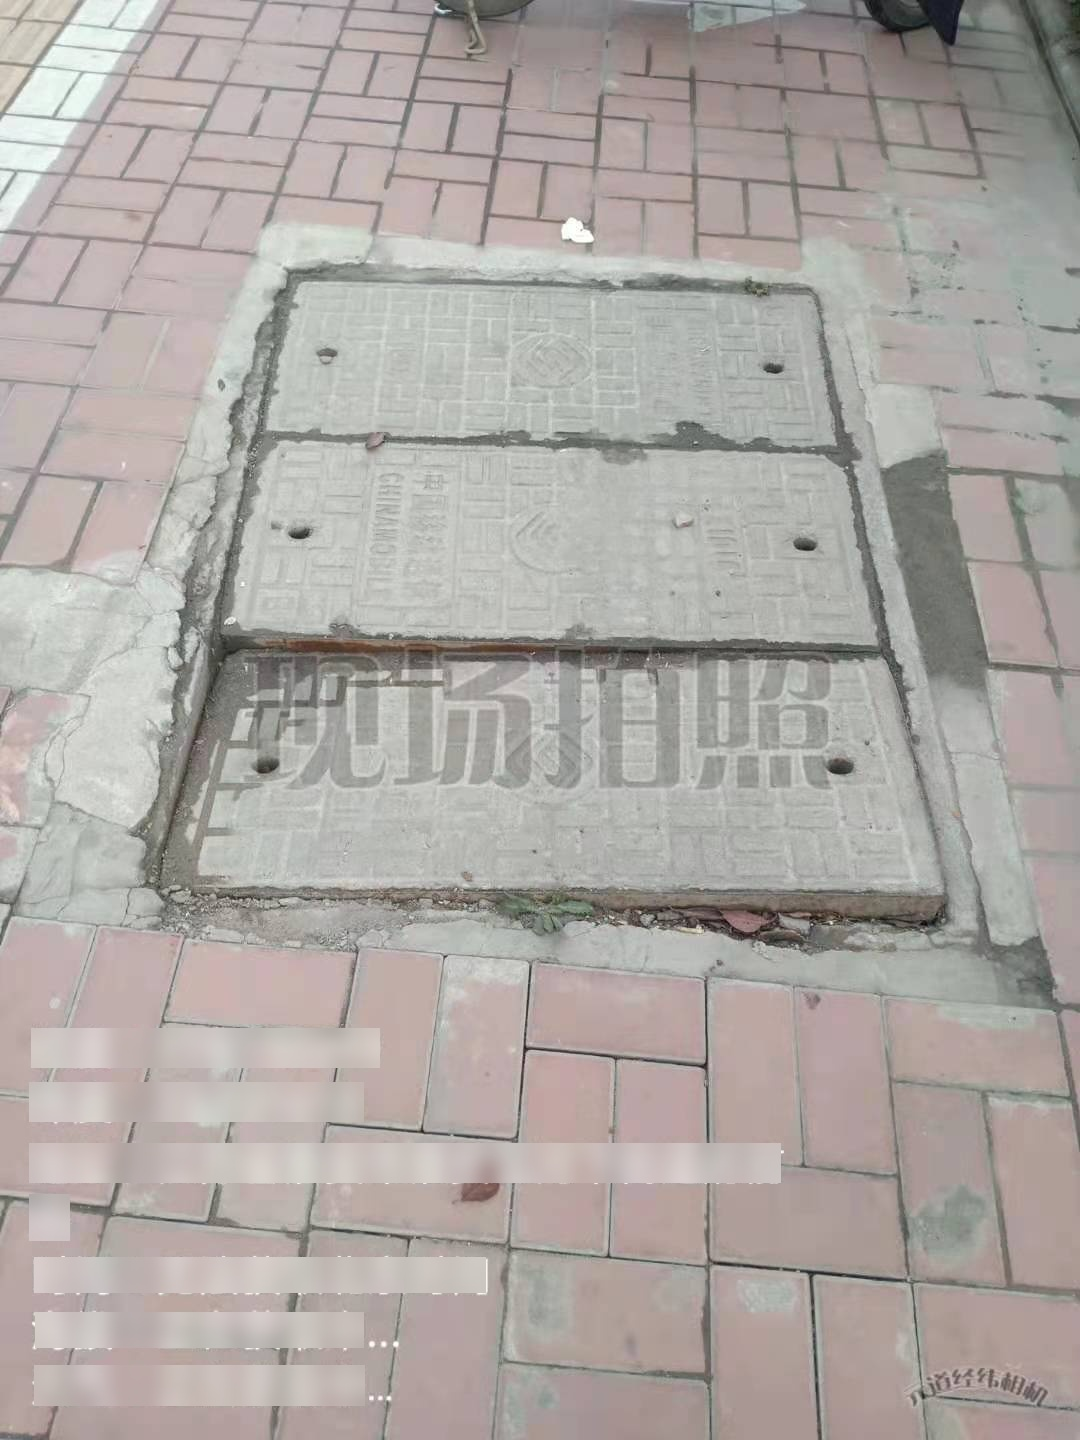uncovered: (141, 247, 984, 952)
